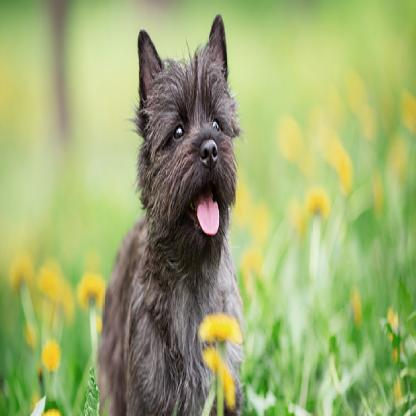Cairn Terrier: (110, 18, 252, 416)
